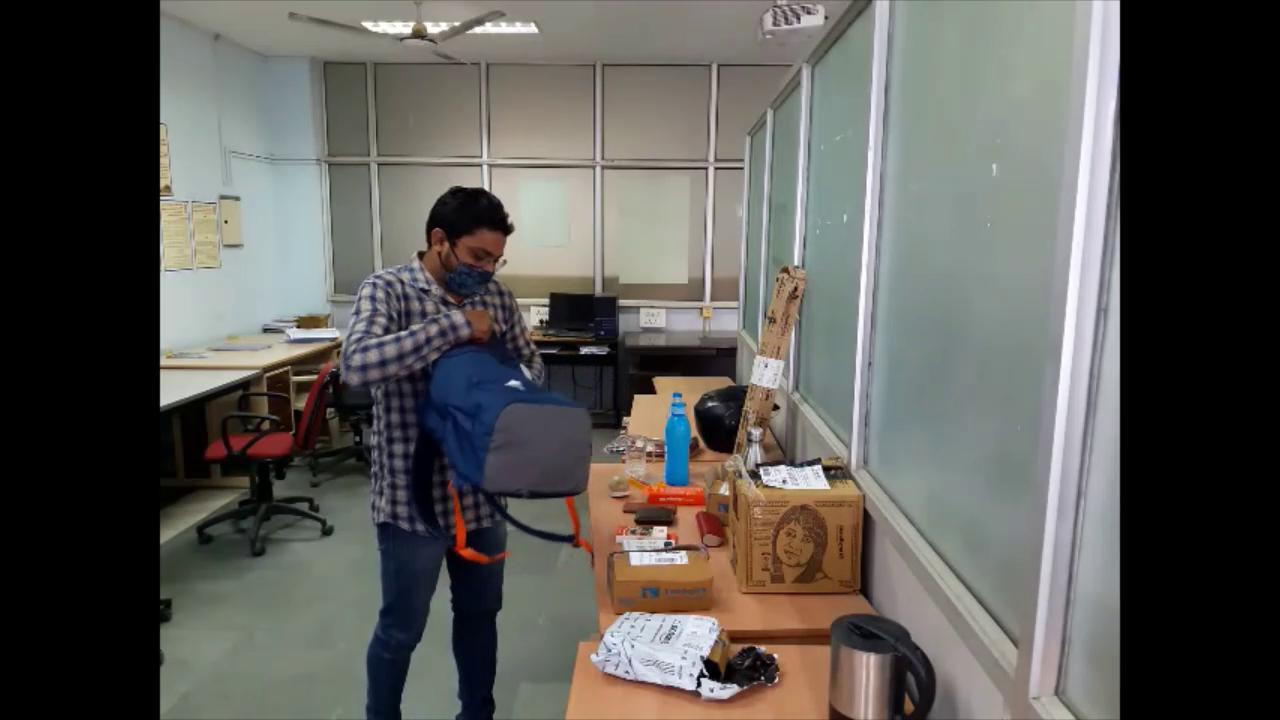shoplifting: (333, 169, 602, 720)
